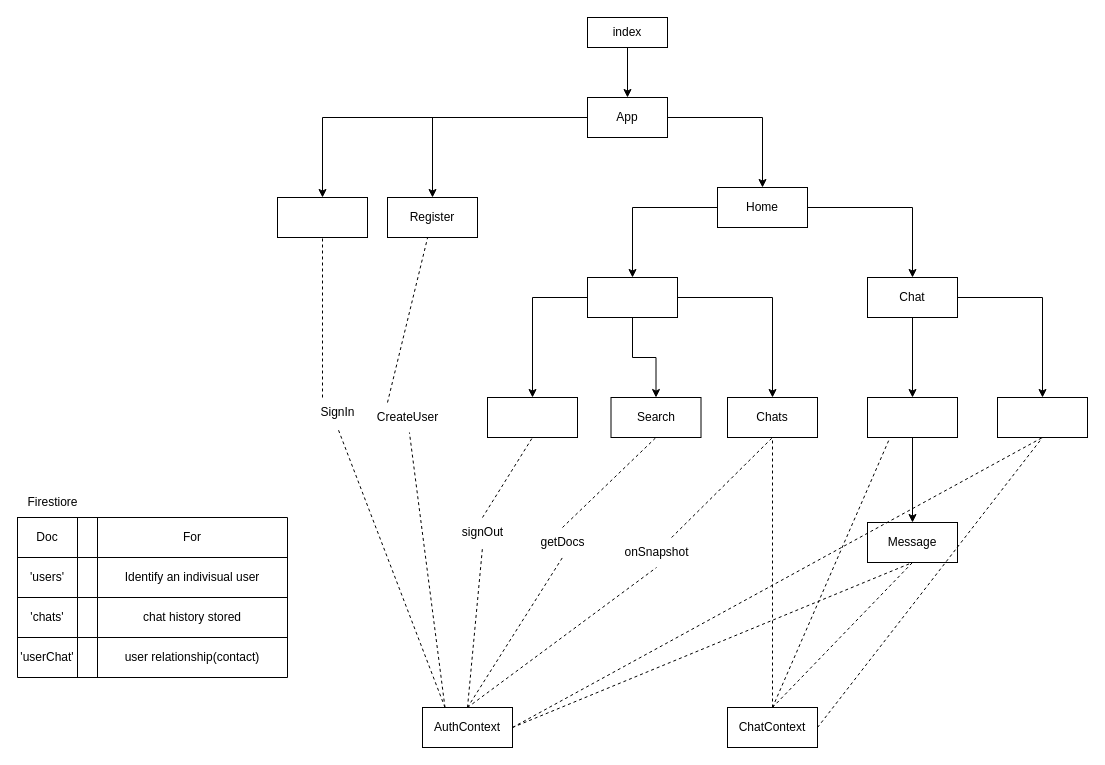
Some shapes in this 1105 by 765 pixel diagram are drawn without their labels. The centre of each missing label's shape, as x and y in pixels:
"Input" belongs at (1042,417).
"Login" belongs at (322,217).
"Messages" belongs at (912,417).
"Navbar" belongs at (532,417).
"Sidebar" belongs at (632,297).
